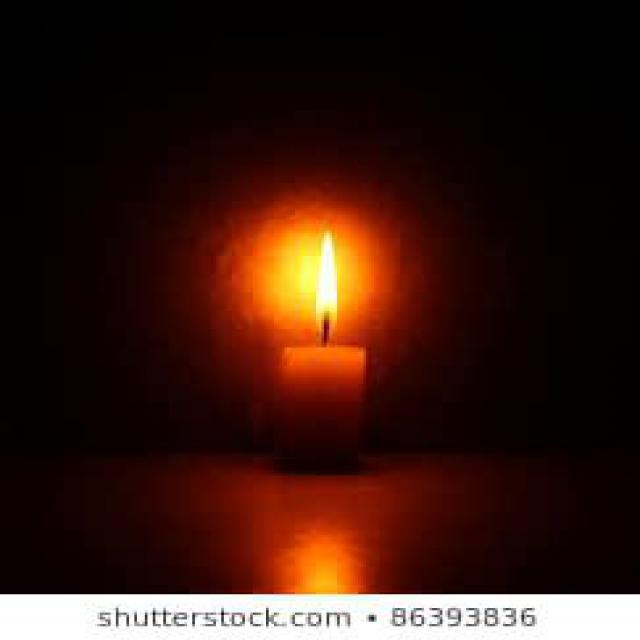Fire: (314, 232, 342, 331)
